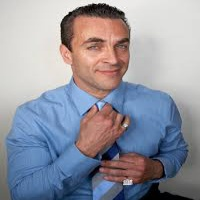ring: (99, 167, 130, 176), (117, 113, 125, 127)
